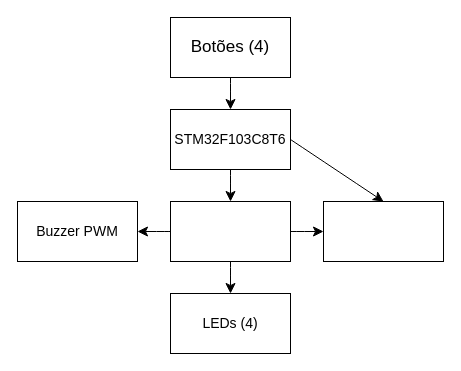
Image size: 461x371. Some labels were removed from this diagram. The shapes that lost their labels are listed below. From the top down, each one's centre as x and y in pixels, then its label:
At (x=230, y=231): "Gerador de sequência".
At (x=383, y=231): "Lógica de verificação".
